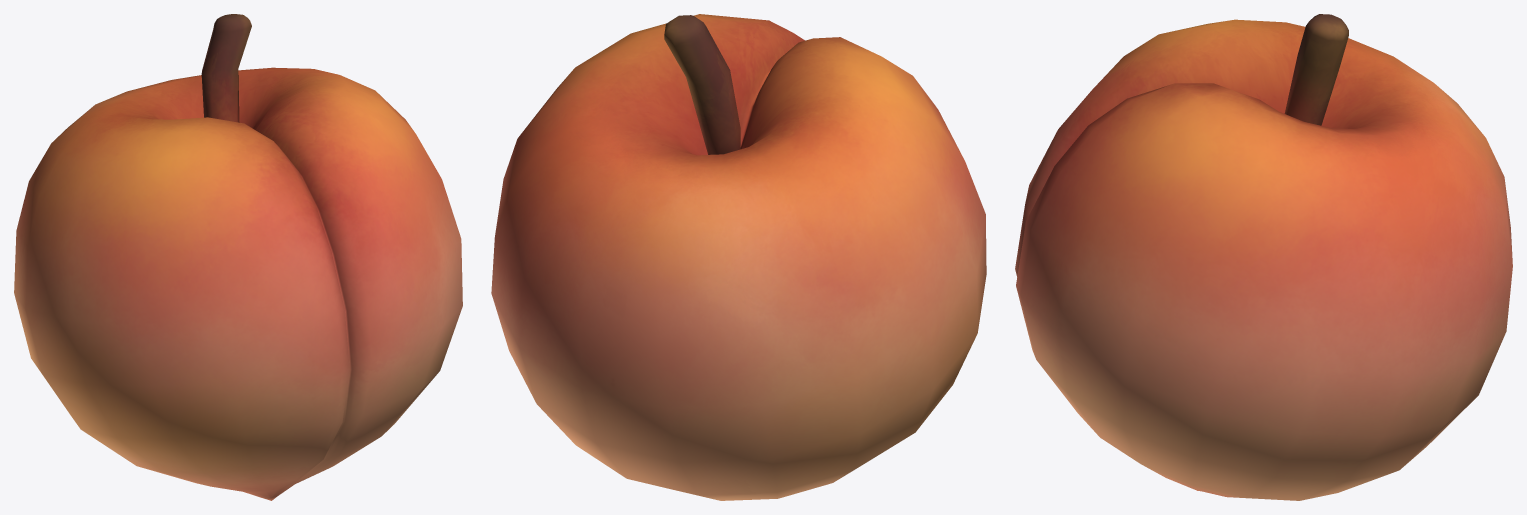
File: Ingrediente_Peach.fbx
The picture shows the model from 3 angles, left to right: view 1: azimuth 30°, elevation 25°; view 2: azimuth 150°, elevation 25°; view 3: azimuth 270°, elevation 25°; orthographic projection. The views are drawn at different scales.
Parts seen in each view (by area): view 1: m_Peach; view 2: m_Peach; view 3: m_Peach.
Part boxes in pixels (box(x1,y1,x2,y2)): m_Peach: box(14, 14, 462, 500); m_Peach: box(491, 14, 986, 500); m_Peach: box(1015, 14, 1512, 500).
Bounding box in the file's own units: 38.36 × 41.62 × 38.75.
